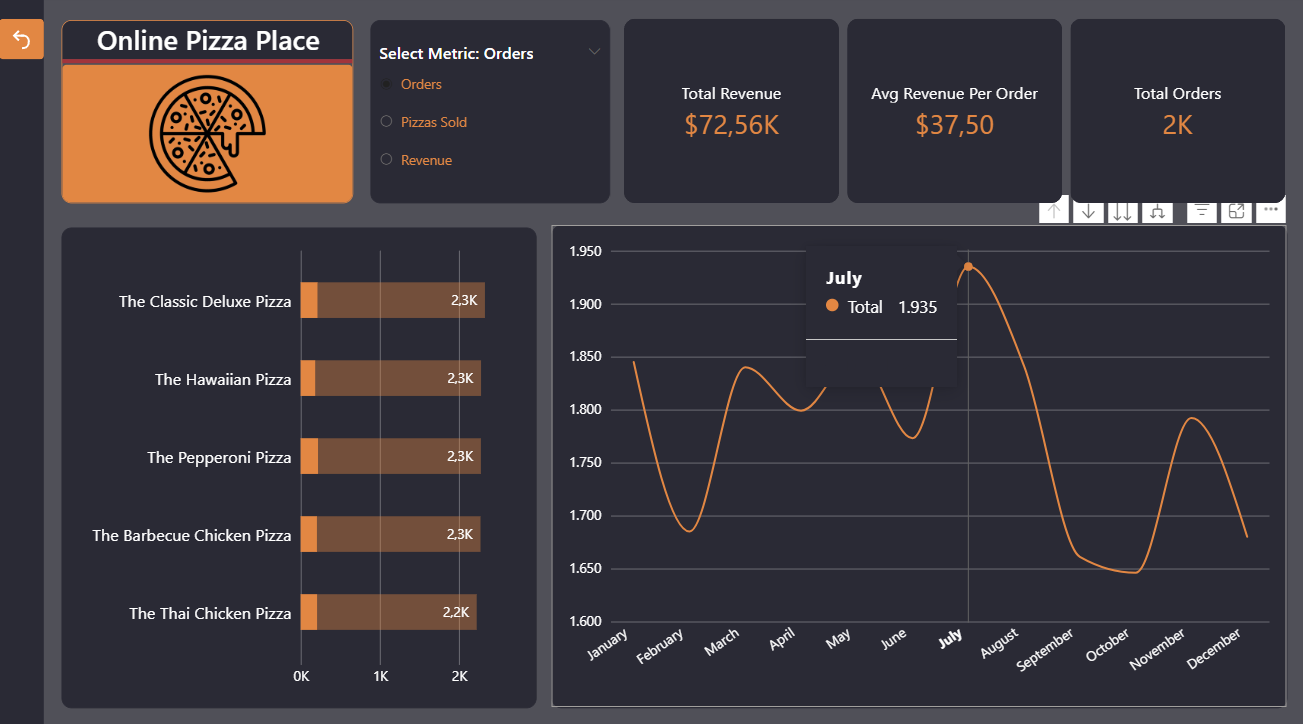

This screenshot's page, from the dashboard's own definition file:
{"tool":"powerbi","page":{"name":"Exec Dashboard","canvas":[1280,720],"ordinal":0},"visuals":[{"type":"slicer","fields":{"Values":["_Metric Selection.Select Metric"]},"box":[365,25,235,180],"z":0},{"type":"lineChart","fields":{"Category":["orders.date.Variation.Date Hierarchy.Month","orders.date.Variation.Date Hierarchy.Day","orders.Time Slot"],"Y":["_Measures.Total Revenue"]},"box":[542,226,722,474],"z":1000},{"type":"clusteredBarChart","fields":{"Category":["pizza_types.name"],"Y":["_Measures.Total Revenue"]},"box":[61.7,228.3,466.7,471.7],"z":2000},{"type":"cardVisual","fields":{"Data":["_Measures.Total Revenue","_Measures.Avg Revenue Per Order","_Measures.Total Orders"]},"box":[613.3,23.3,650,181.7],"z":3000},{"type":"shape","box":[0,0,44,720],"z":4000},{"type":"actionButton","box":[0,22.9,44.3,40],"z":5000},{"type":"image","title":"Online Pizza Place","box":[61.7,25,286.7,180],"z":6000}]}

Visuals, with their boxes on the page's 1280x720 design canvas (x1, y1, x2, y2). These are canvas units, not pixel positions in the 1303x724 screenshot, which may show the page scaled, cropped or inside an application window:
slicer - _Metric Selection.Select Metric: [x1=365, y1=25, x2=600, y2=205]
lineChart - orders.date.Variation.Date Hierarchy.Month x orders.date.Variation.Date Hierarchy.Day: [x1=542, y1=226, x2=1264, y2=700]
clusteredBarChart - pizza_types.name x _Measures.Total Revenue: [x1=62, y1=228, x2=528, y2=700]
cardVisual - _Measures.Total Revenue x _Measures.Avg Revenue Per Order: [x1=613, y1=23, x2=1263, y2=205]
shape: [x1=0, y1=0, x2=44, y2=720]
actionButton: [x1=0, y1=23, x2=44, y2=63]
"Online Pizza Place" image: [x1=62, y1=25, x2=348, y2=205]
